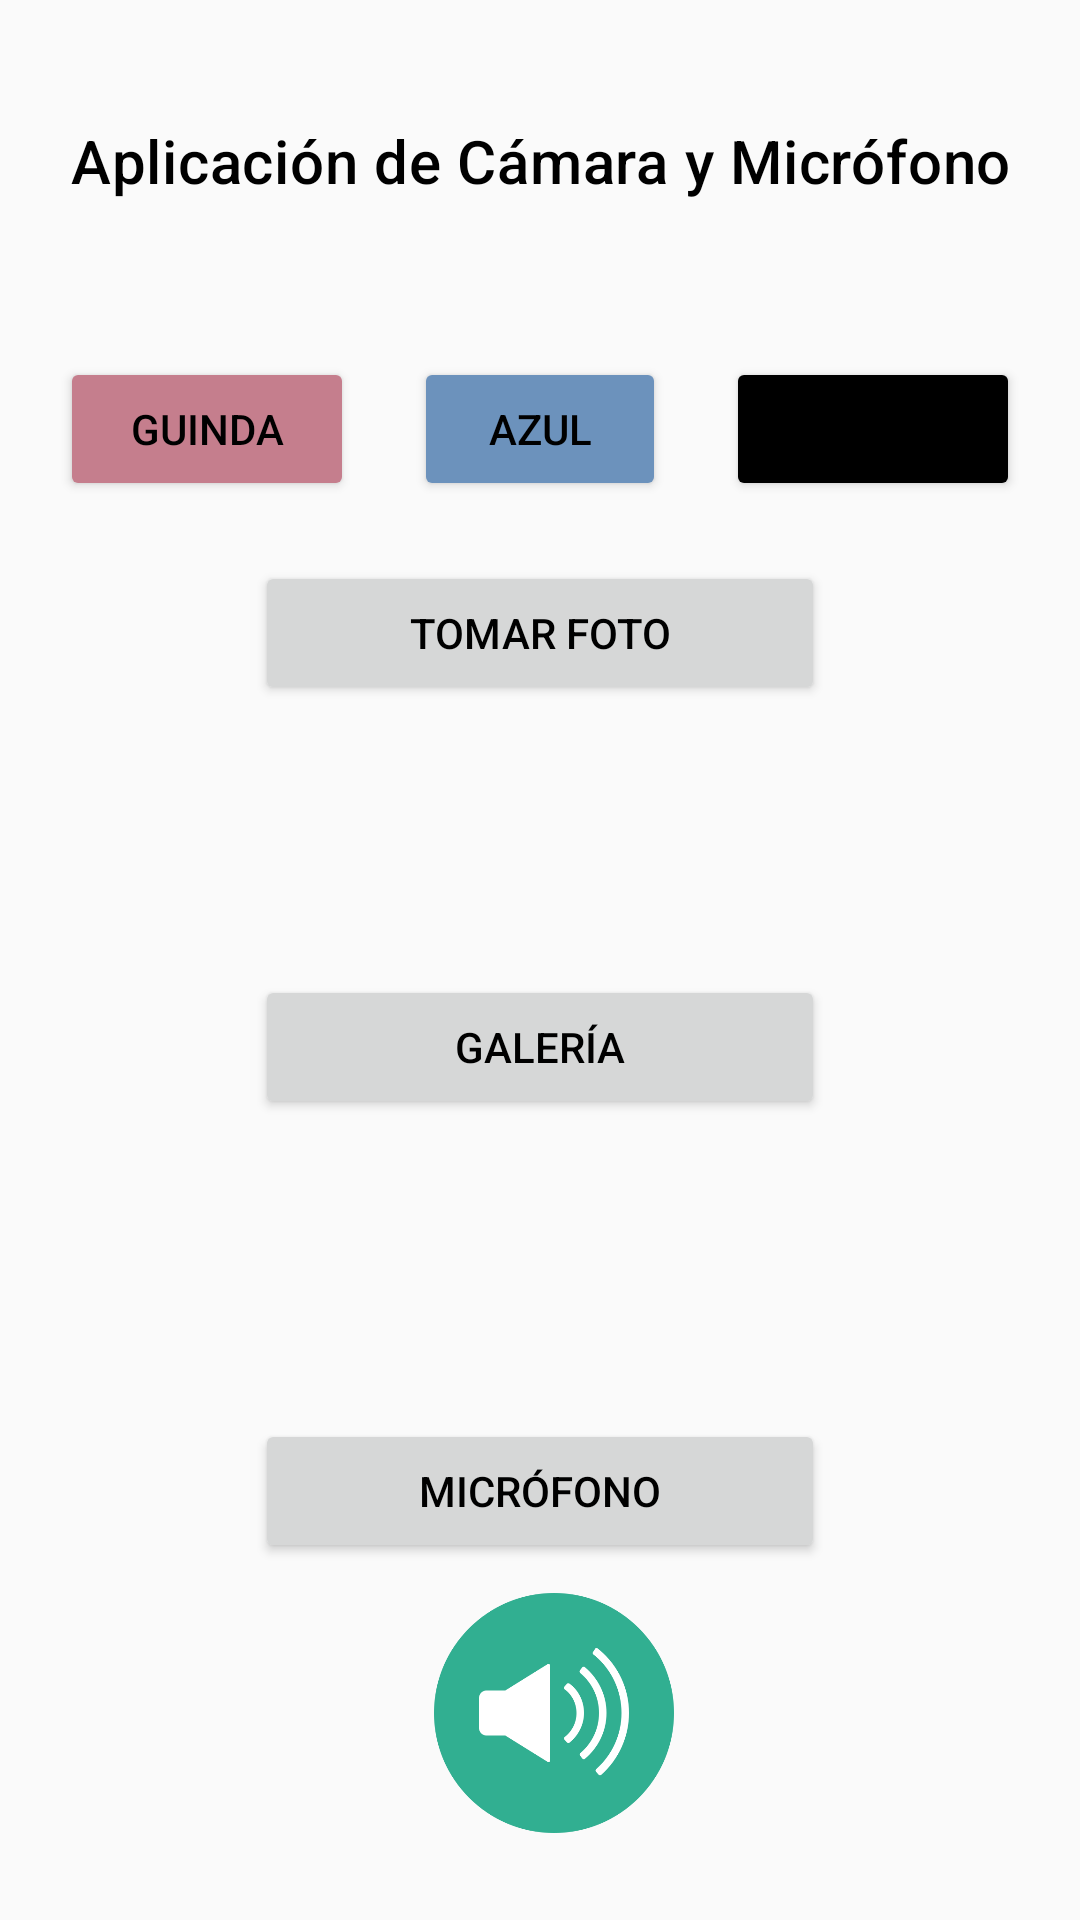

Icons on this 1080px x 1920px Android screen, each with its box as Rect(x1, y1, x2, y2):
Ícono de audio: Rect(434, 1593, 674, 1833)
